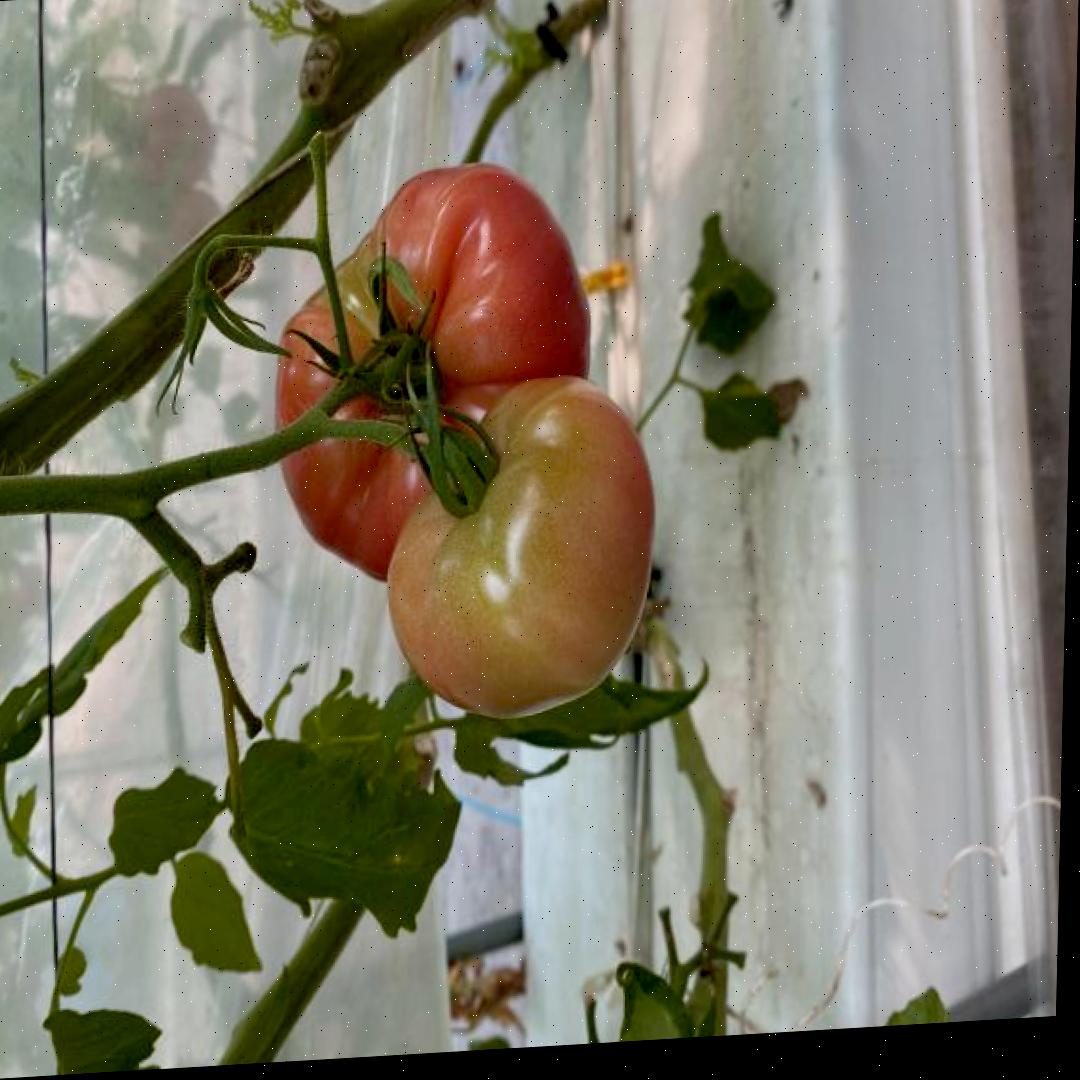matang: (263, 153, 598, 599)
mentah: (382, 365, 661, 731)
